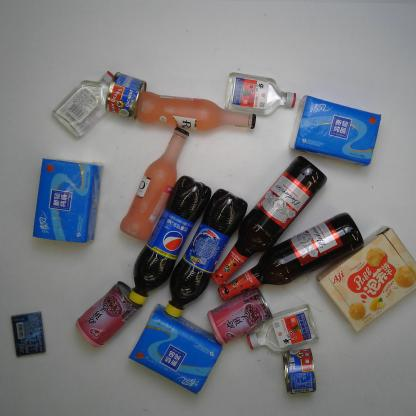Alcohol: (210, 154, 328, 286), (216, 210, 365, 302), (119, 126, 190, 243), (136, 90, 257, 133), (51, 69, 114, 139), (245, 302, 320, 354), (223, 71, 298, 118)
Canned Food: (75, 280, 144, 348), (206, 286, 275, 346), (104, 70, 147, 121), (282, 346, 317, 396)
Dessert: (316, 224, 416, 333)
Drink: (164, 187, 249, 319), (127, 174, 212, 306)
Gum: (10, 310, 48, 359)
Tissue: (127, 302, 224, 396), (287, 92, 383, 168), (31, 156, 105, 244)
